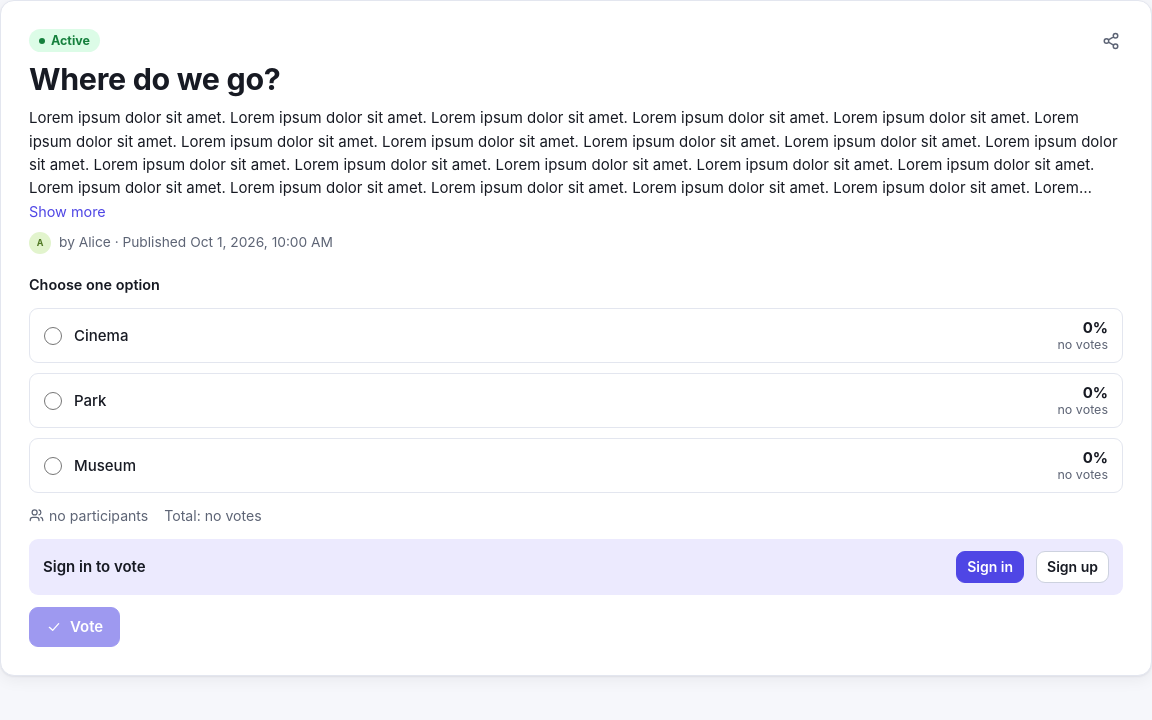
SurveyView voting › a long description is folded until the reader asks for it
Click the button with class "link-btn" at (67, 212), box [29, 201, 106, 224]
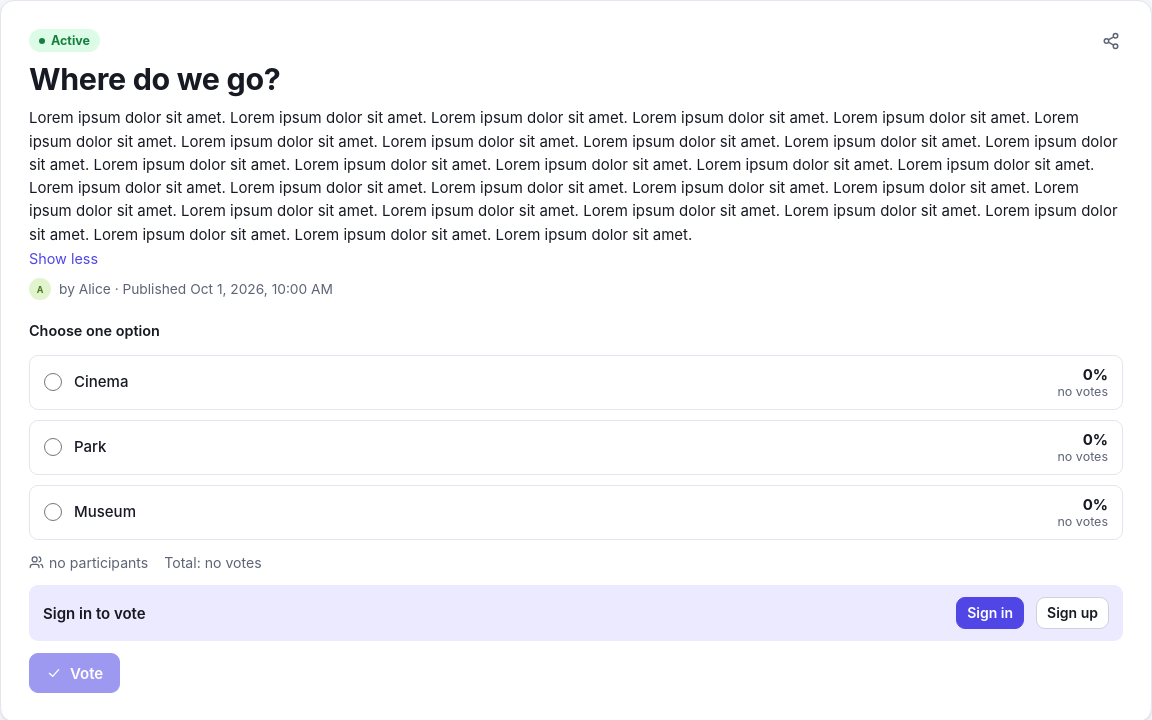
Now the button with class "link-btn" reads "Show less", box [29, 248, 98, 270]
